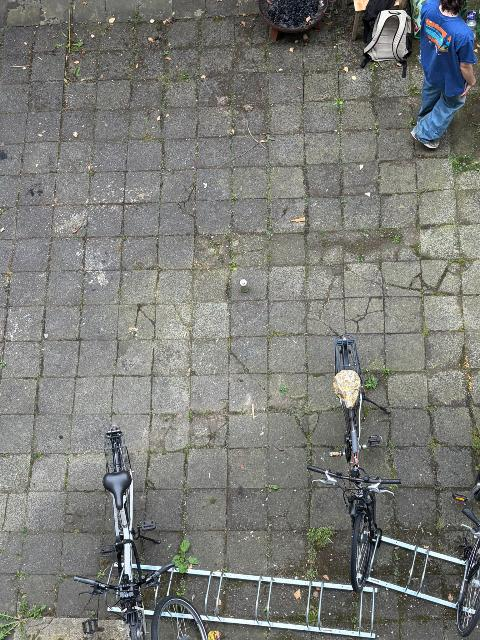can: (239, 280, 248, 293)
